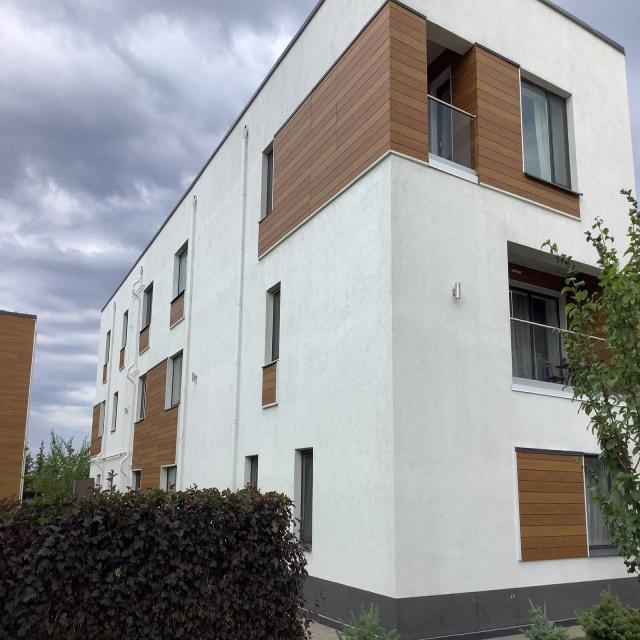Building: (89, 0, 639, 640)
